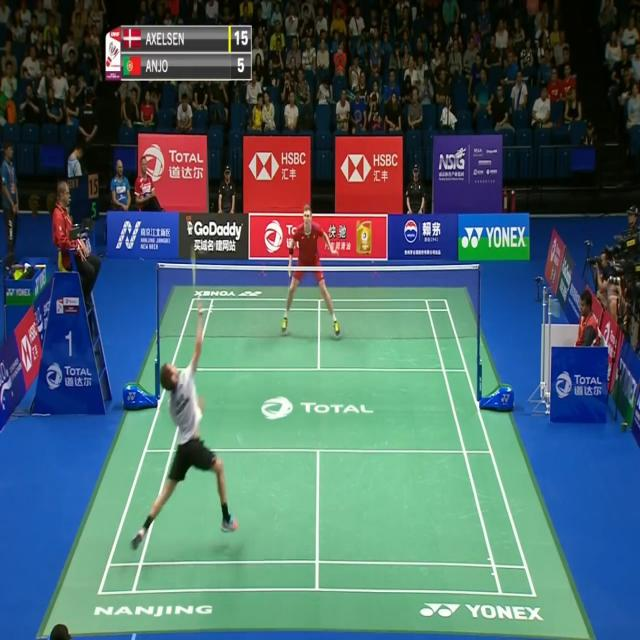Player1: (128, 278, 240, 556)
Player2: (278, 192, 342, 352)
